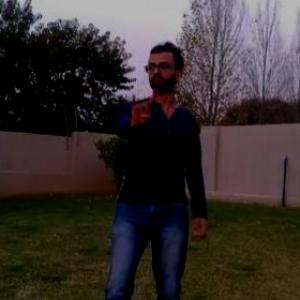takeoff-hand: (122, 84, 162, 128)
